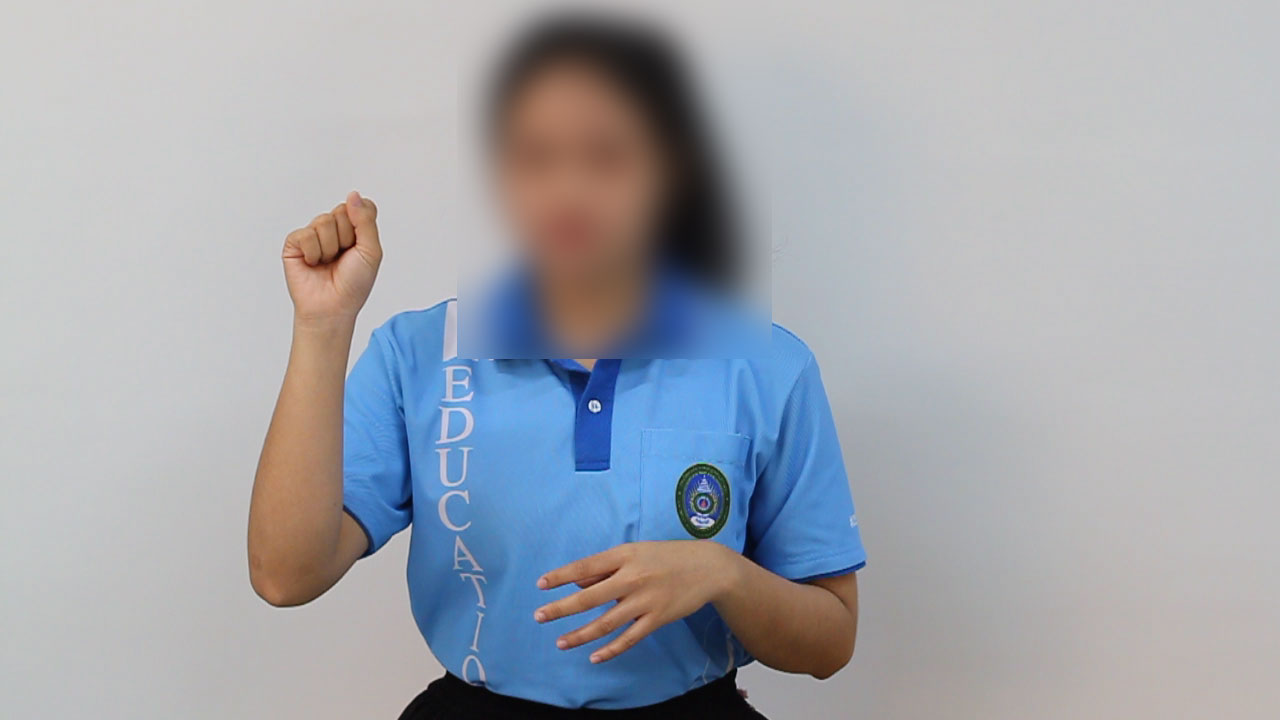sor: (258, 180, 395, 332)
